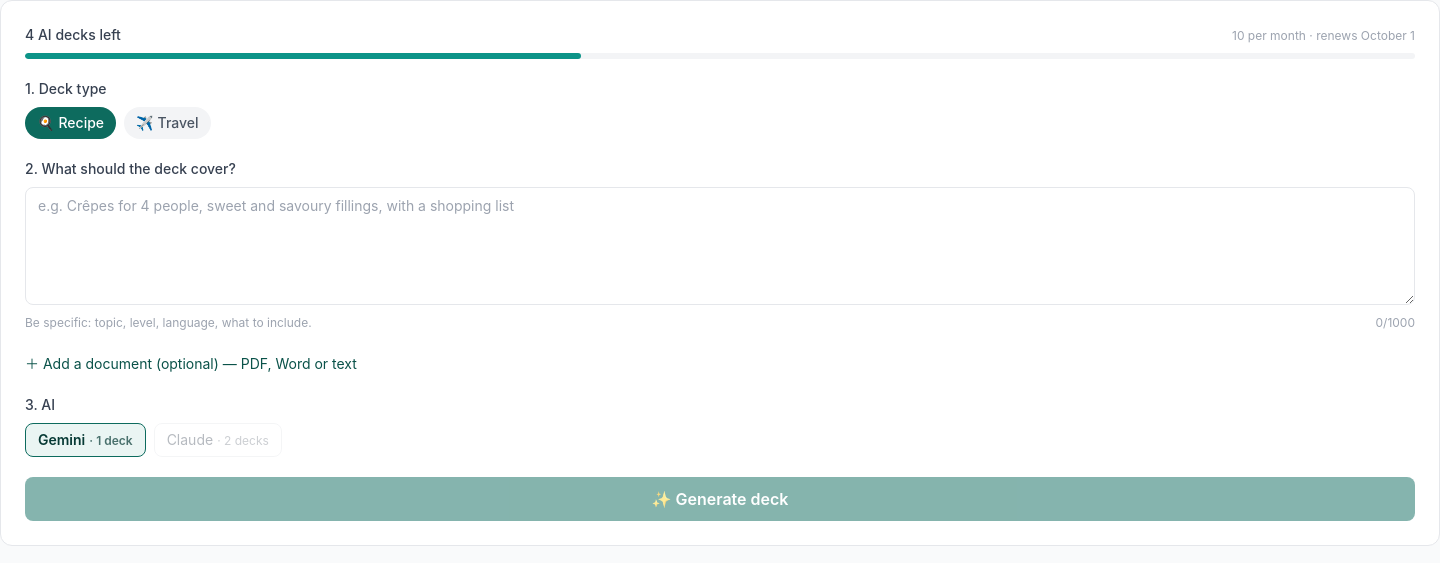
Test case: generates a deck with the chosen category and default provider
The width and height of the screenshot is (1440, 563).
Expected: the text "4 AI decks left" is shown, [25,25,121,45]
Expected: the button "Claude· 2 decks" is disabled, [154,423,282,457]
Click the button "✈️Travel": {"x": 167, "y": 123} [124,107,210,139]
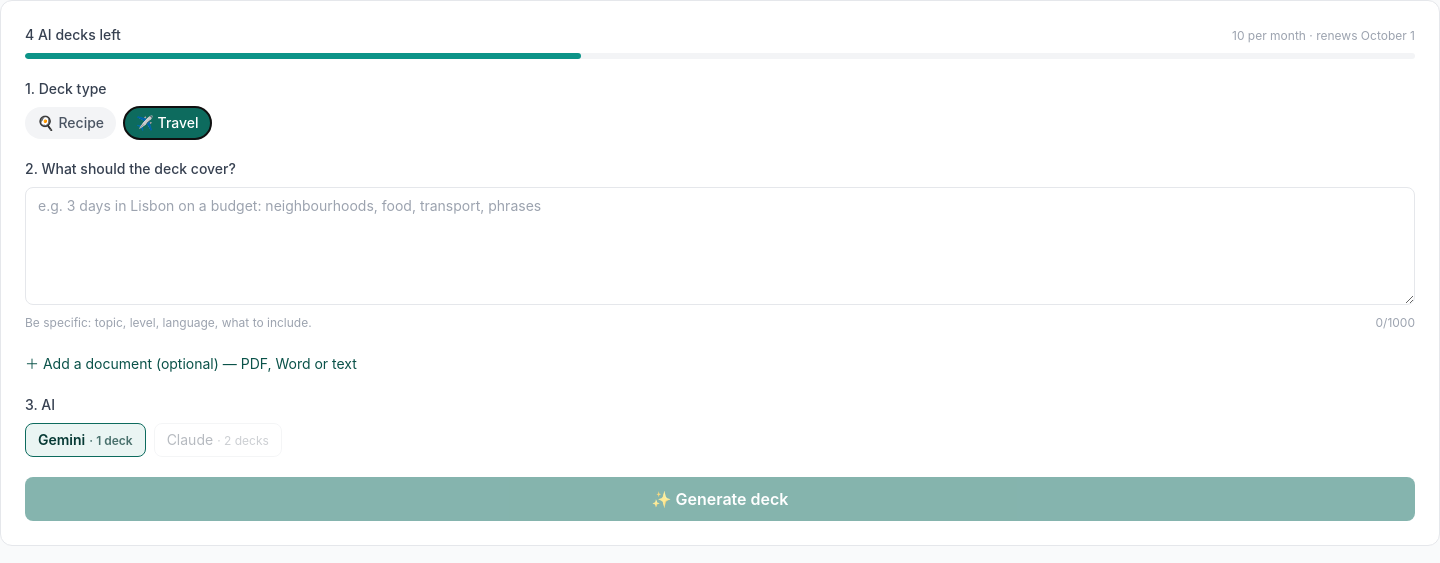
Expected: the button "✨ Generate deck" is disabled, [25,477,1415,521]
In the text box: {"x": 720, "y": 246} [25,187,1415,305], type "Three days in Lisbon on a budget"
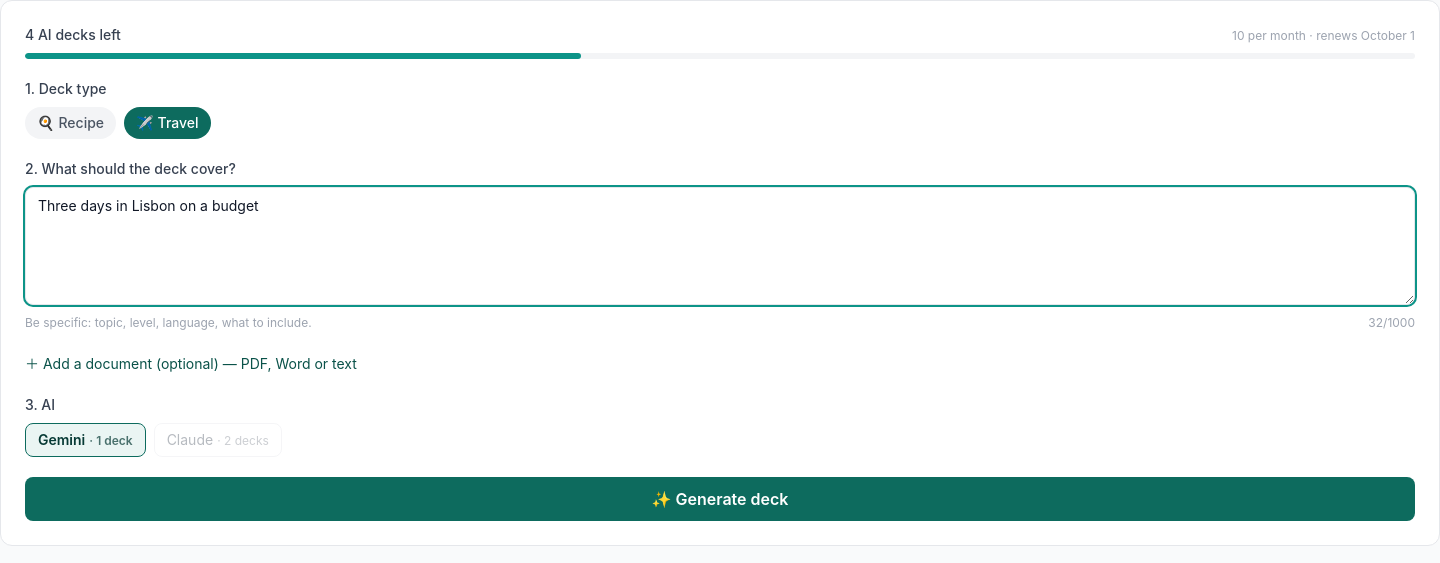
Click the button "✨ Generate deck": {"x": 720, "y": 499} [25,477,1415,521]
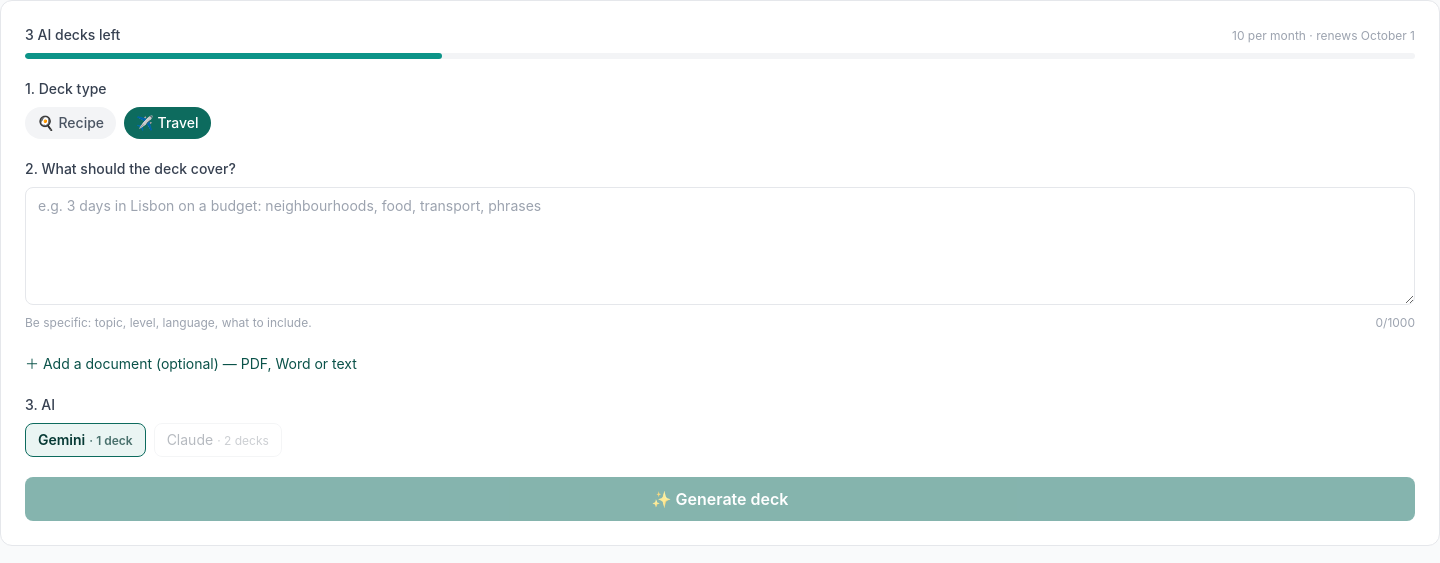
Now the text "3 AI decks left" is shown, box [25,25,120,45]
